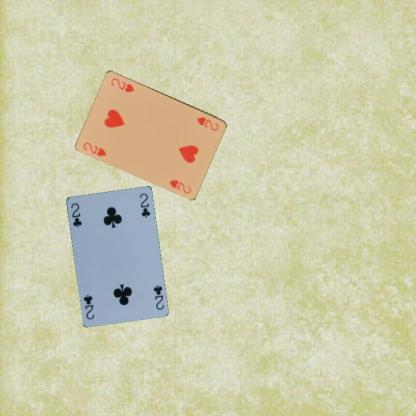2c: (68, 200, 83, 228), (151, 282, 165, 311)
2h: (81, 139, 108, 158), (194, 114, 220, 132)
